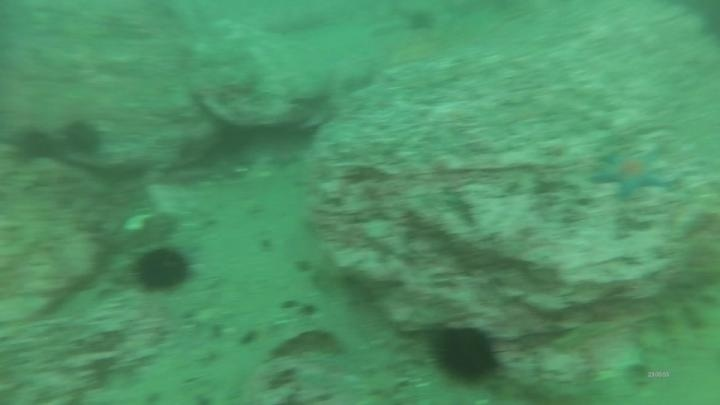echinus: (426, 321, 505, 389), (129, 241, 197, 297), (60, 117, 106, 160), (13, 125, 60, 166)
starfish: (587, 142, 677, 202)
